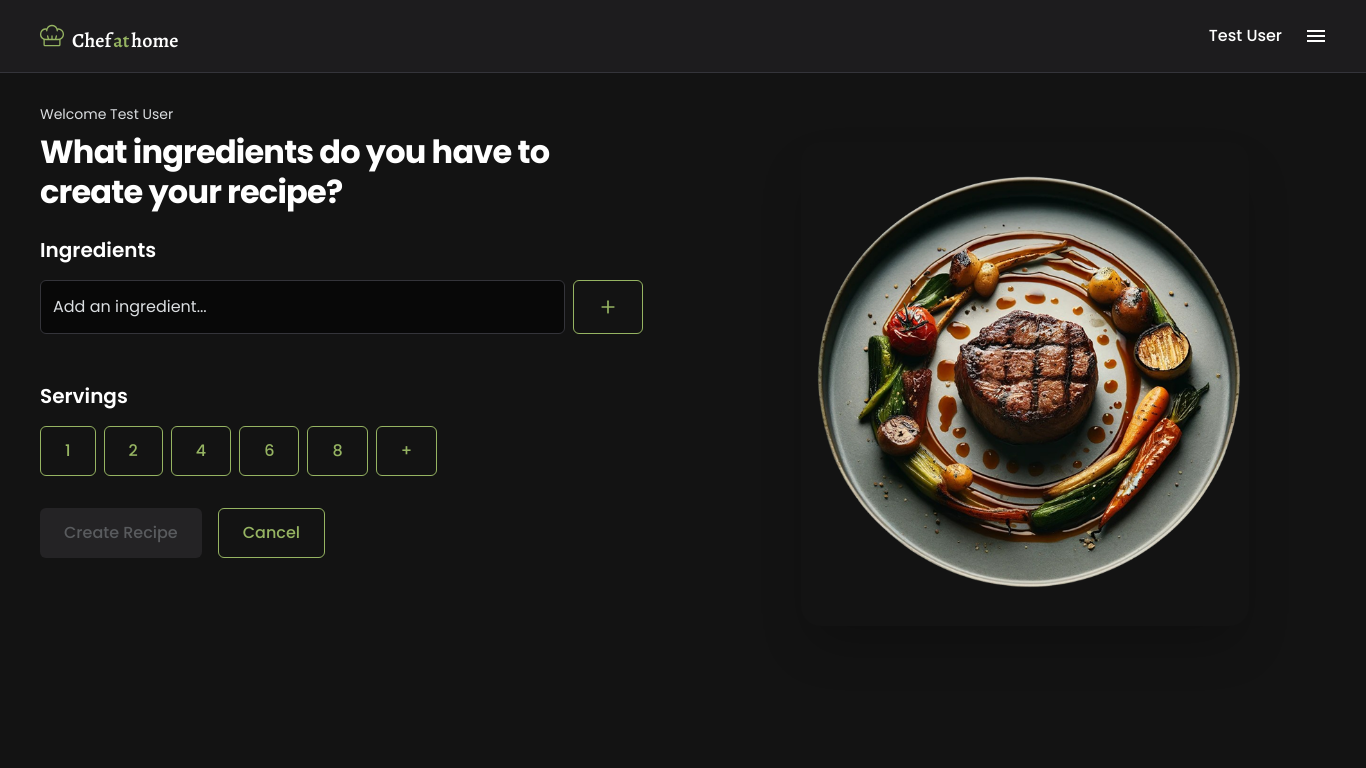
Scenario: CreateRecipePage › Ingredient Management › adds ingredient when button is clicked
Type "Tomato" into the field with placeholder "Add an ingredient..." at (302, 307), box [40, 280, 565, 334]
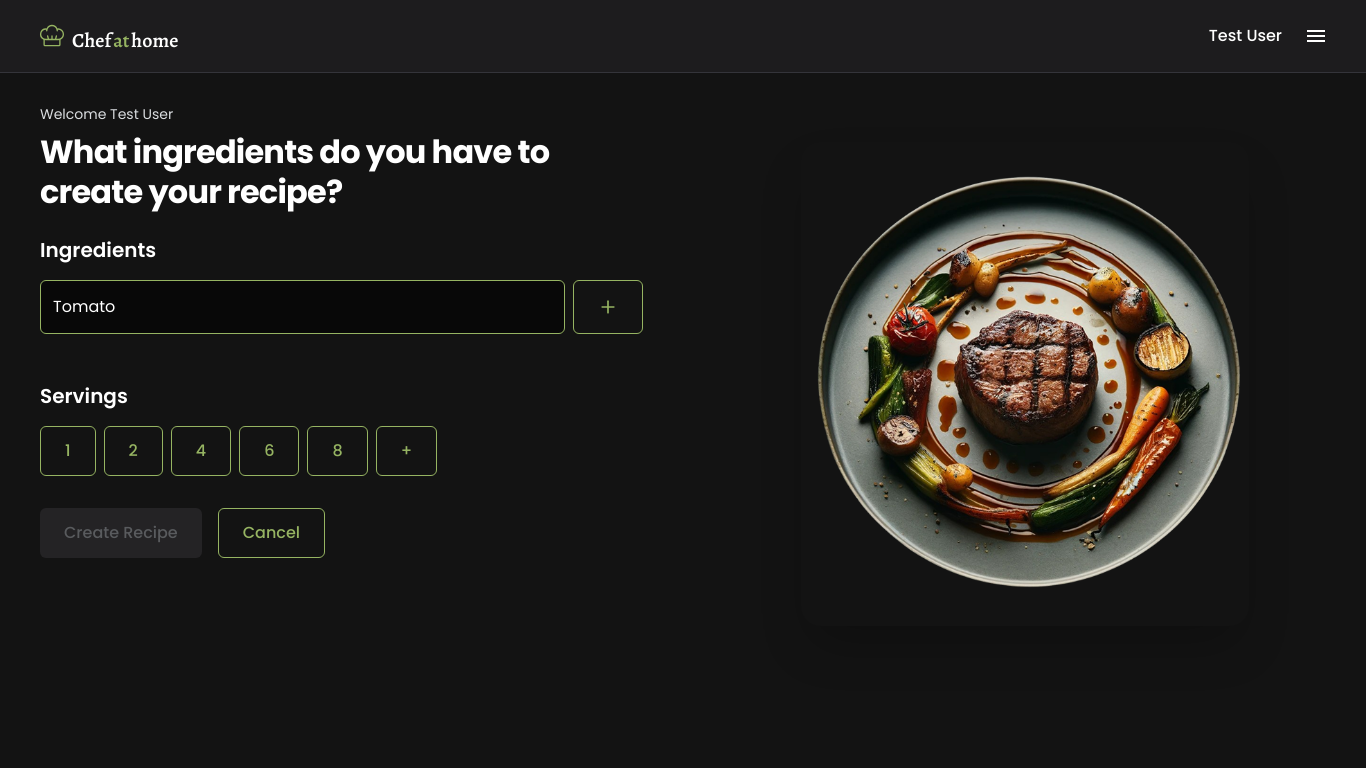
Click the button with test id "add-ingredient-button" at (608, 307), box [573, 280, 643, 334]
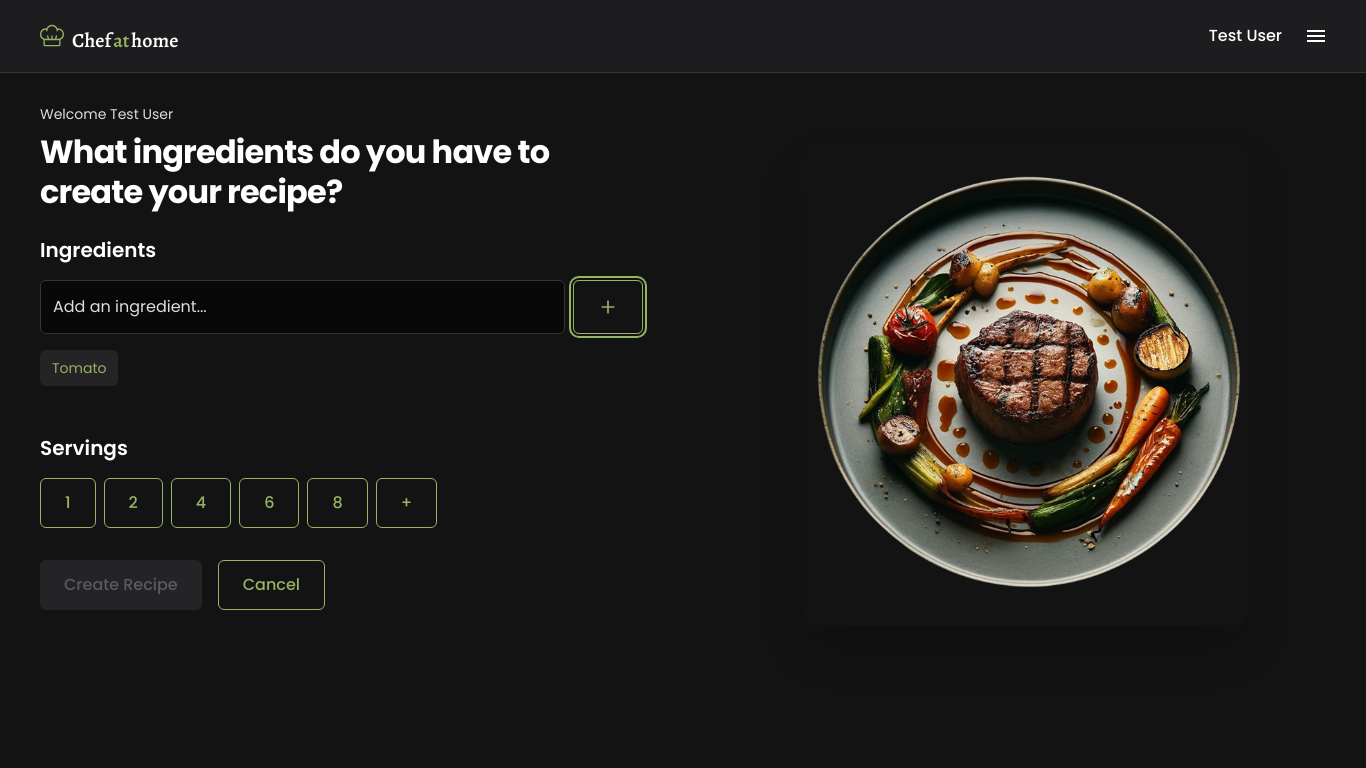
Now the text "Tomato" is shown, box [52, 358, 106, 378]
